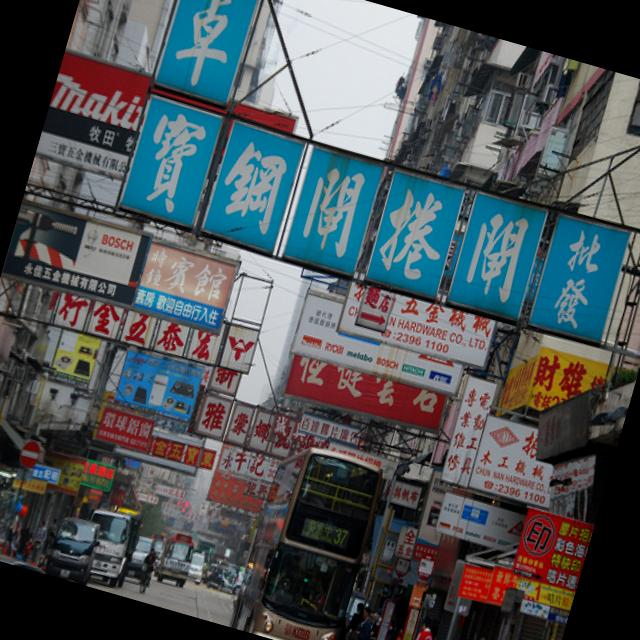Vehicle: (227, 425, 395, 640), (73, 504, 144, 591), (42, 512, 102, 586), (152, 528, 198, 590), (126, 534, 157, 582), (125, 534, 156, 582), (188, 538, 217, 582), (205, 564, 236, 594), (184, 551, 208, 586), (202, 562, 218, 586), (230, 578, 242, 596)
